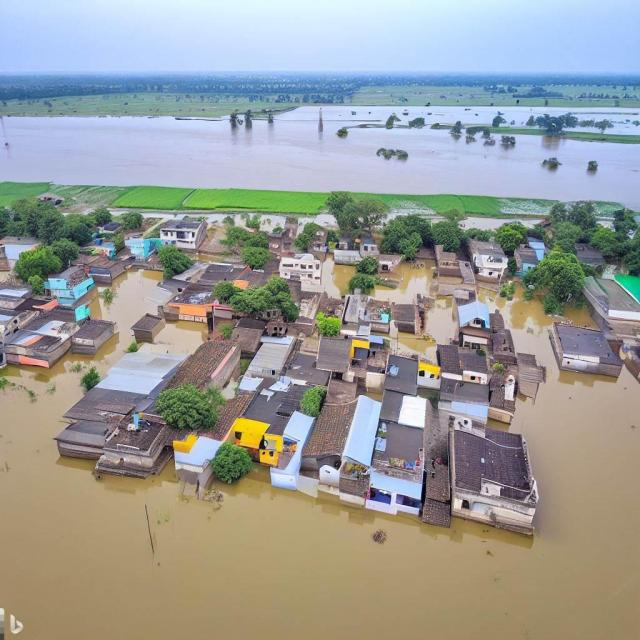flood: (0, 271, 640, 640), (0, 105, 640, 210), (375, 261, 433, 301), (141, 322, 206, 353), (391, 334, 435, 360), (431, 300, 456, 342), (324, 261, 352, 292)
house: (54, 351, 190, 458), (437, 425, 542, 517), (356, 410, 430, 511), (303, 393, 382, 478), (90, 415, 172, 483), (270, 412, 316, 492), (550, 322, 614, 378), (170, 433, 225, 494), (6, 321, 77, 368), (588, 276, 640, 340), (438, 378, 491, 418), (165, 291, 228, 324), (69, 316, 119, 356), (245, 339, 293, 376), (470, 238, 508, 283), (389, 391, 432, 429), (46, 267, 94, 301), (314, 334, 352, 376), (383, 353, 419, 396), (277, 251, 322, 285), (433, 242, 468, 283), (334, 238, 380, 268), (224, 420, 267, 451), (460, 346, 490, 384), (458, 297, 490, 332), (166, 221, 206, 248), (573, 239, 607, 270), (515, 238, 546, 272), (137, 311, 167, 344), (436, 344, 462, 379), (492, 328, 516, 363), (365, 347, 390, 378)
